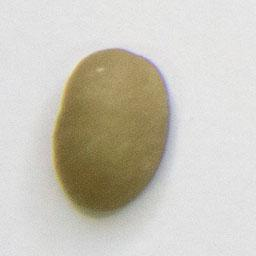premium: (50, 45, 173, 214)
